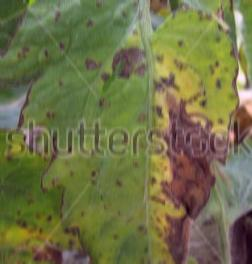Tomato leaf bacterial spot: (0, 0, 237, 264), (0, 128, 107, 264)
